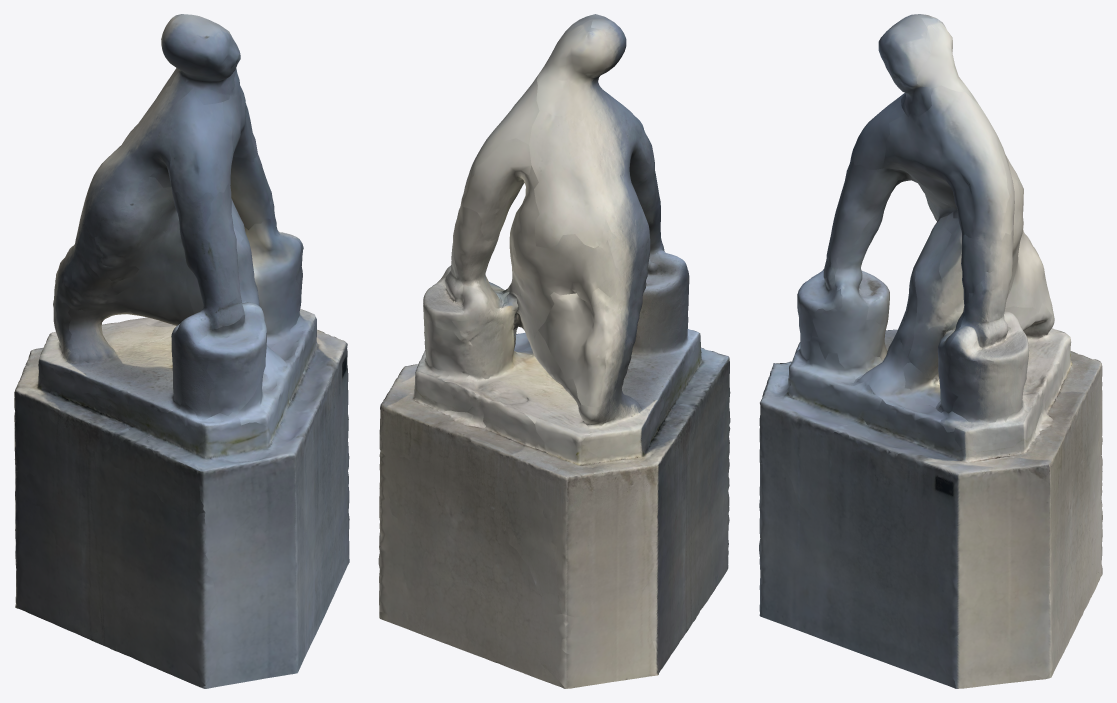
Rendered from vatnsberi_an_gras.obj.
3 views of the same model, side by side, from view 1: azimuth 30°, elevation 25°; view 2: azimuth 150°, elevation 25°; view 3: azimuth 270°, elevation 25° (orthographic). The views are drawn at different scales.
Parts seen in each view (by area): view 1: Object; view 2: Object; view 3: Object.
Boxes of the visible parts, bbox=[...] form: Object: bbox=[14, 14, 349, 688]; Object: bbox=[378, 14, 730, 688]; Object: bbox=[759, 14, 1102, 688].
Size of the model in its own units: 1.74 by 3.36 by 1.78.
